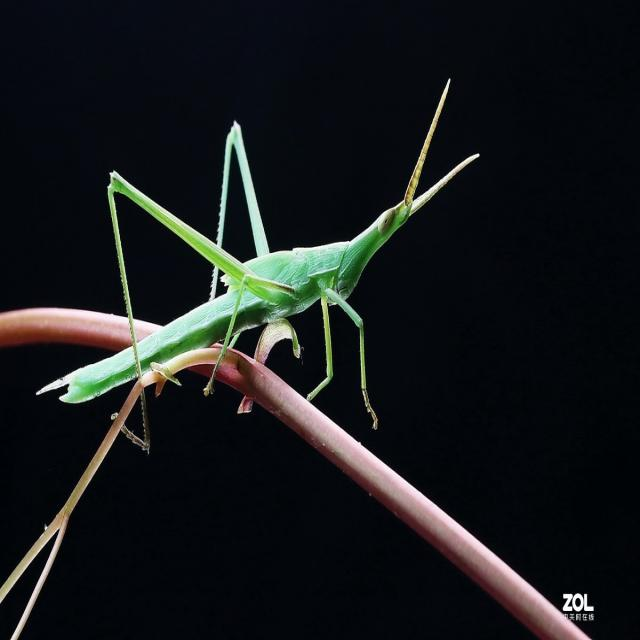ZhaMeng: (40, 101, 473, 424)
